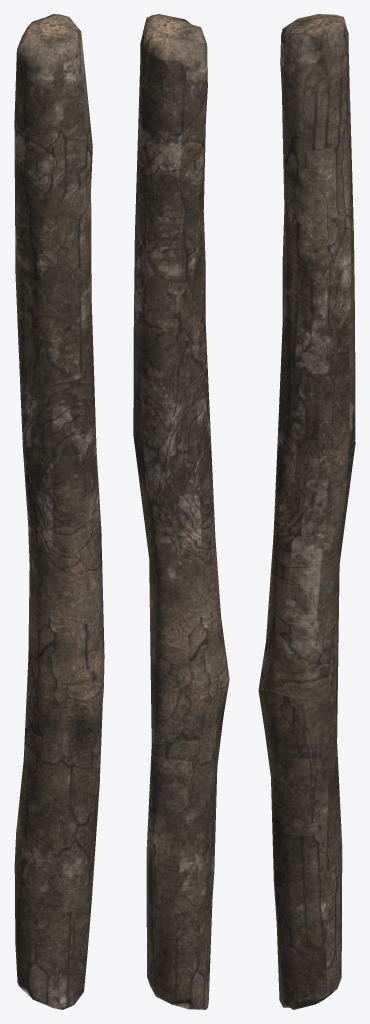
The model's file is SM_Log_C.fbx.
The picture shows the model from 3 angles, left to right: view 1: azimuth 90°, elevation 25°; view 2: azimuth 150°, elevation 25°; view 3: azimuth 330°, elevation 25°; orthographic projection. The views are drawn at different scales.
Visible parts, largest first — view 1: SM_Log_C_LOD0; view 2: SM_Log_C_LOD0; view 3: SM_Log_C_LOD0.
Part boxes in pixels (x1,y1,x2,y2): SM_Log_C_LOD0: (14,14,104,1009); SM_Log_C_LOD0: (133,14,229,1009); SM_Log_C_LOD0: (258,14,355,1009).
Size of the model in its own units: 36.27 by 38.52 by 458.
1 material, 1 textured.
